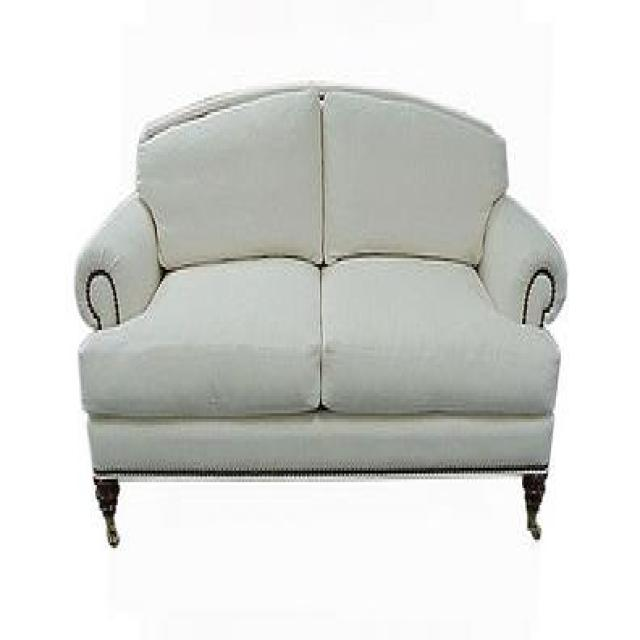sofa: (73, 80, 567, 548)
